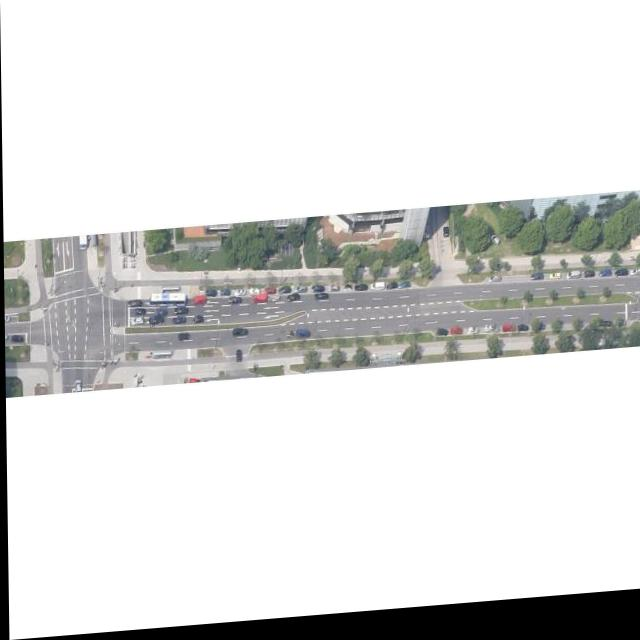vehicle: (149, 318, 163, 329), (250, 298, 265, 308), (489, 242, 500, 255), (484, 332, 499, 341), (127, 301, 141, 310), (130, 318, 144, 327), (614, 279, 628, 288), (566, 280, 580, 289), (191, 299, 204, 308), (286, 298, 299, 307), (370, 288, 383, 297), (232, 332, 246, 340), (295, 334, 309, 342), (172, 310, 188, 317), (313, 298, 327, 306), (248, 291, 259, 301), (488, 282, 500, 291), (502, 333, 515, 341), (529, 282, 542, 290), (310, 290, 323, 298), (11, 335, 23, 343), (154, 311, 166, 319), (172, 319, 184, 327), (294, 290, 306, 298), (278, 291, 290, 299), (204, 293, 216, 301), (227, 301, 240, 308), (133, 310, 144, 318), (191, 319, 202, 327), (436, 336, 447, 344), (450, 335, 461, 343), (466, 334, 477, 342), (385, 288, 396, 296), (327, 290, 338, 298), (263, 291, 274, 299), (234, 292, 245, 300), (598, 280, 610, 287), (548, 281, 560, 288), (354, 291, 366, 298), (517, 333, 528, 340), (629, 279, 640, 286), (398, 288, 409, 295), (178, 336, 189, 343), (583, 281, 593, 288), (442, 234, 448, 245), (74, 380, 79, 393), (269, 299, 278, 306), (220, 292, 229, 299), (236, 353, 241, 365), (285, 336, 293, 343), (343, 291, 350, 297)
